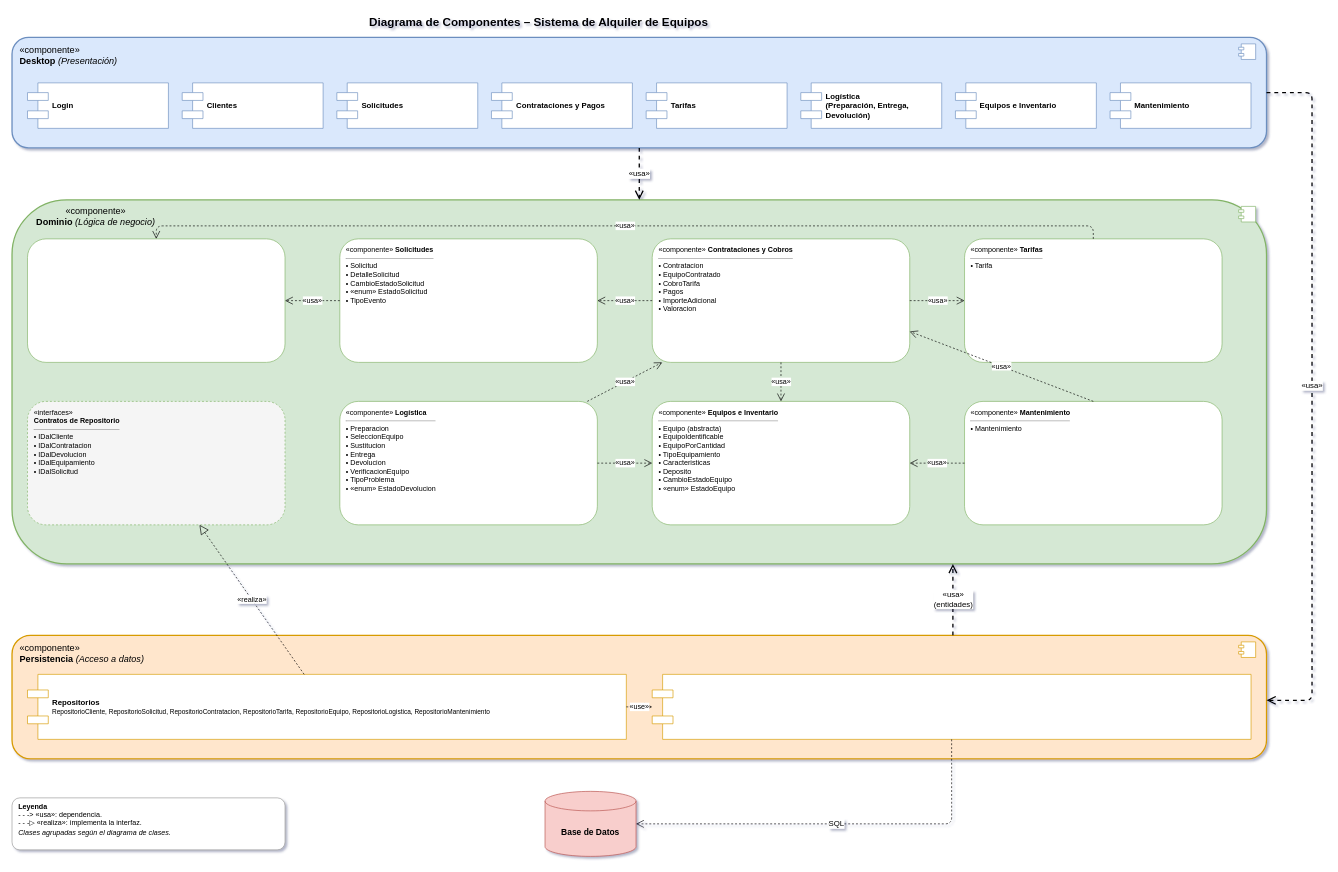
Image size: 1338x872. Some labels were removed from this diagram. Here are the shapes that lost their labels. From the top down, the centre of each, then its label:
At [156,300]: "«componente» Clientes • Cliente • TipoCliente".
At [951,706]: "Contexto de Datos Conexión / DbContext, mapeo de entidades".
